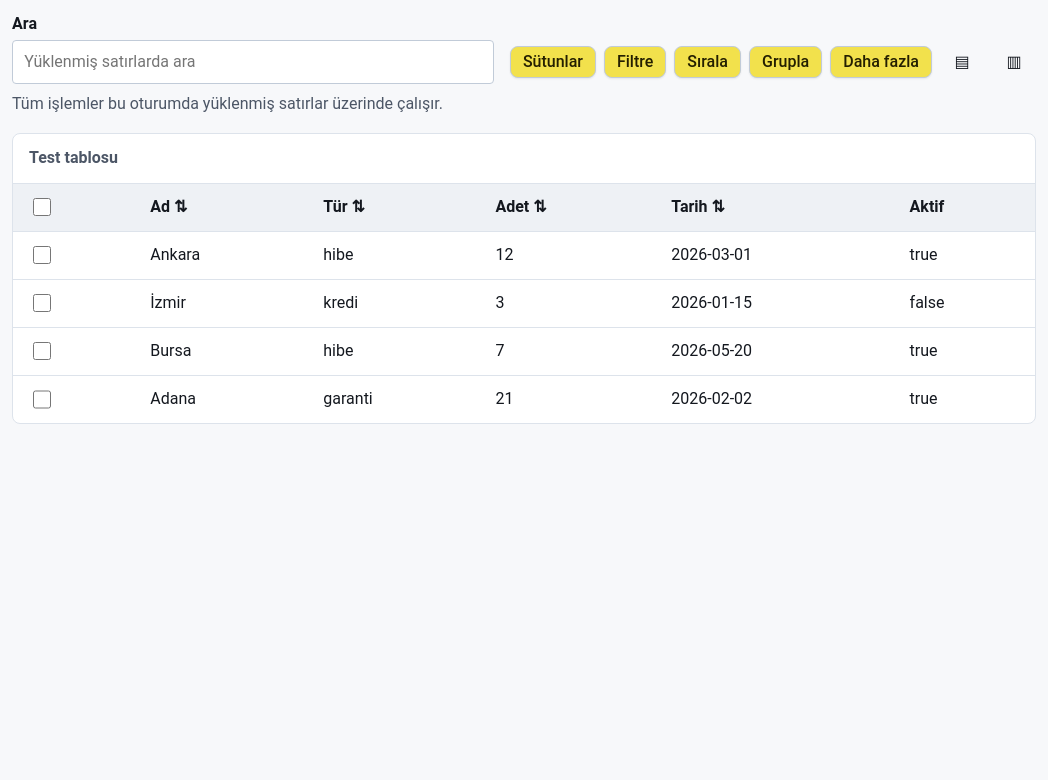
Scenario: columns menu › hides and restores a column
Click the button "Sütunlar": (553, 62) [510, 46, 596, 78]
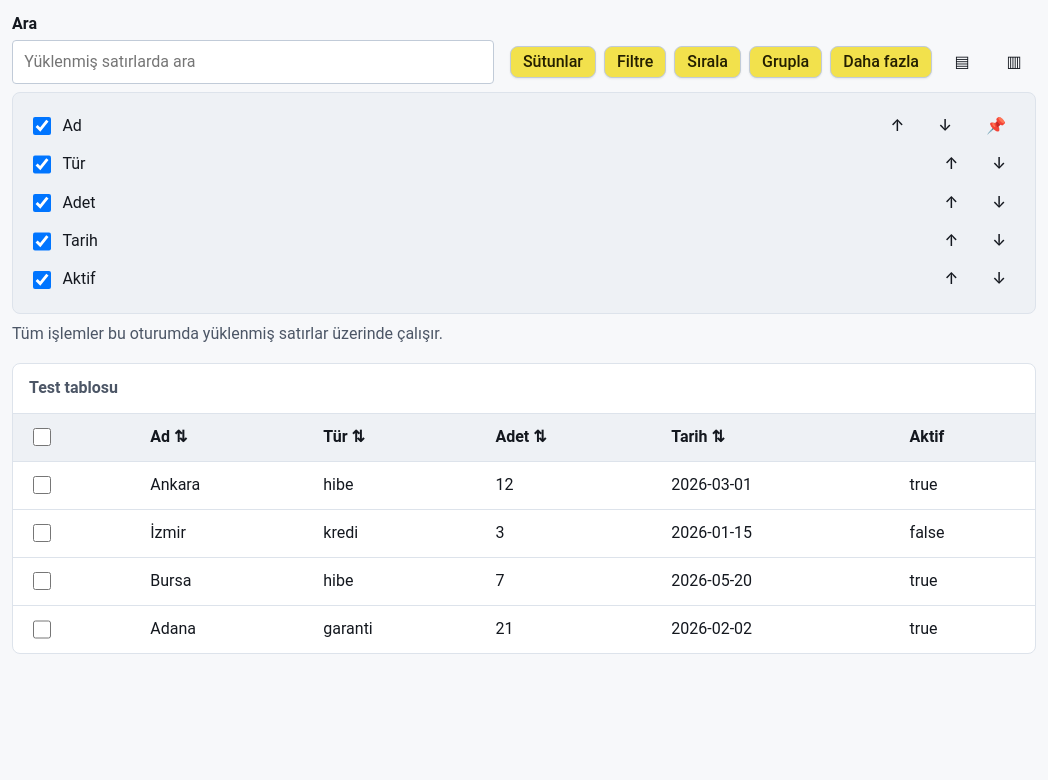
Click the checkbox labelled "Adet": (42, 203) [33, 194, 51, 212]
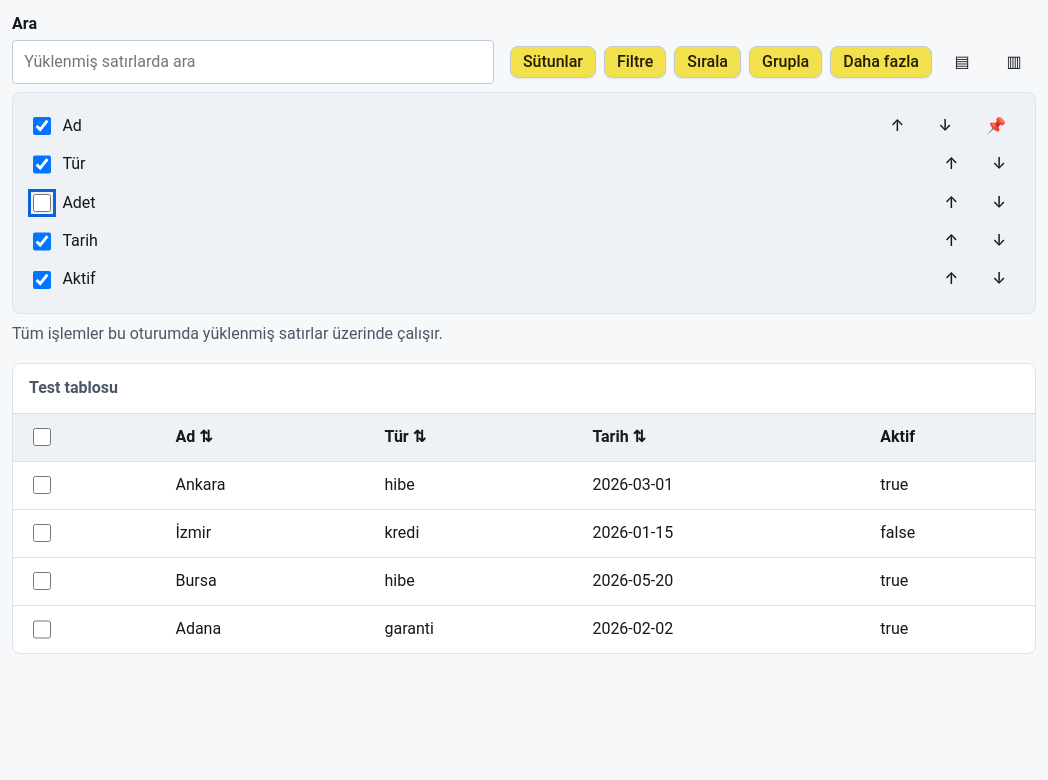
Click the checkbox labelled "Adet": (42, 203) [33, 194, 51, 212]
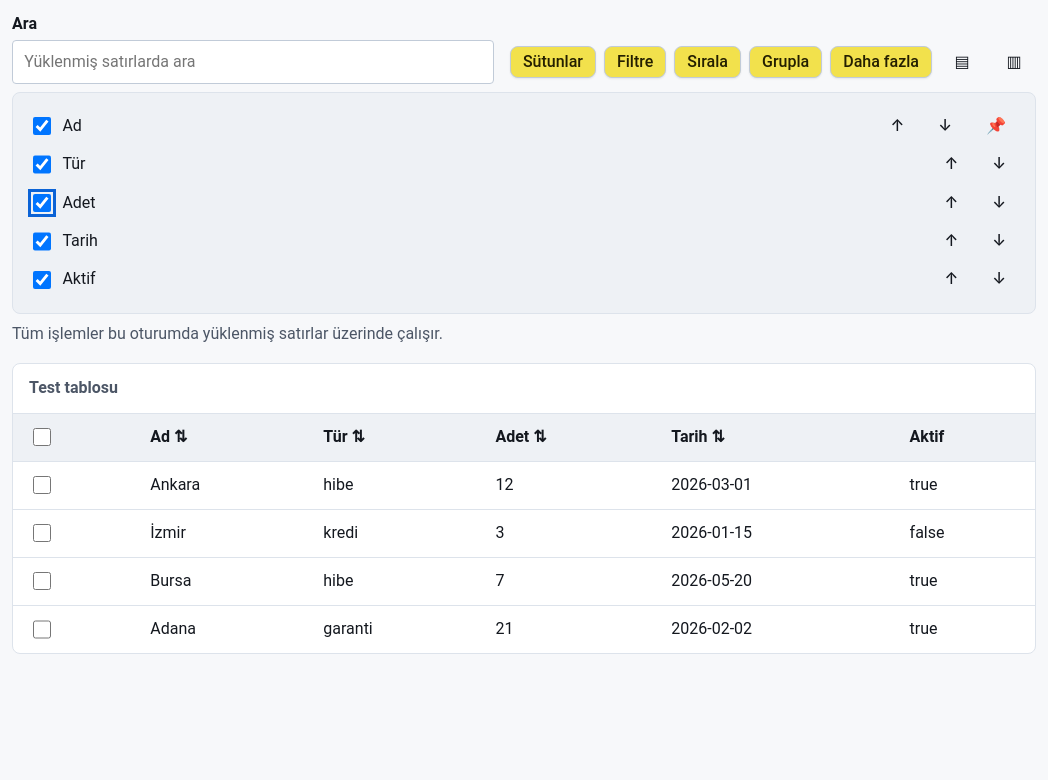
Expected: the column heading "Adet ⇅" is shown, [479, 413, 655, 461]
